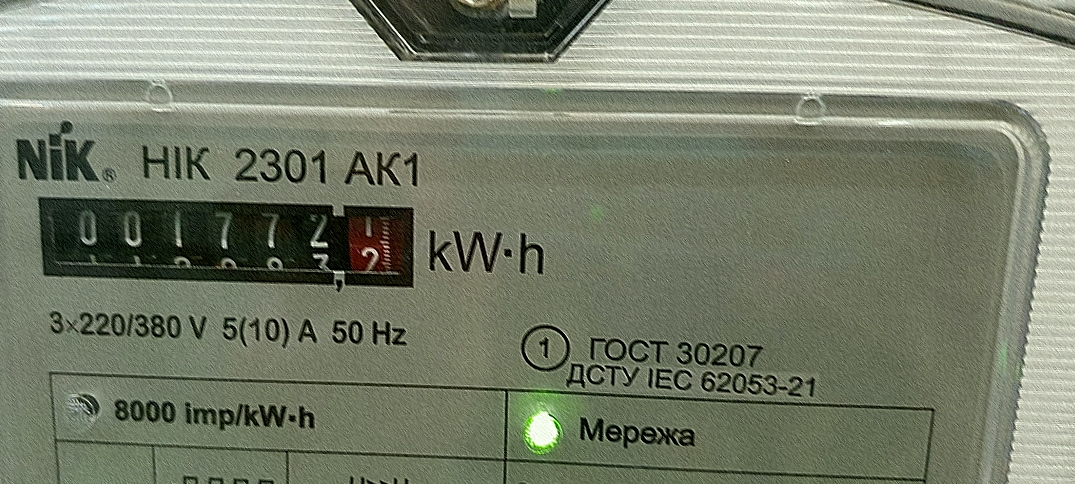0: (72, 205, 101, 246), (120, 207, 144, 247)
1: (168, 208, 187, 247), (361, 213, 375, 240)
2: (306, 212, 331, 250), (356, 243, 380, 273)
3: (310, 250, 332, 272)
7: (211, 208, 235, 251), (258, 210, 281, 249)
screen: (22, 177, 434, 306)
